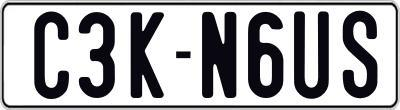3: (77, 12, 116, 103)
6: (248, 12, 284, 104)
C: (33, 11, 72, 103)
K: (131, 9, 170, 95)
N: (201, 9, 241, 97)
S: (340, 11, 378, 103)
U: (293, 11, 332, 100)
